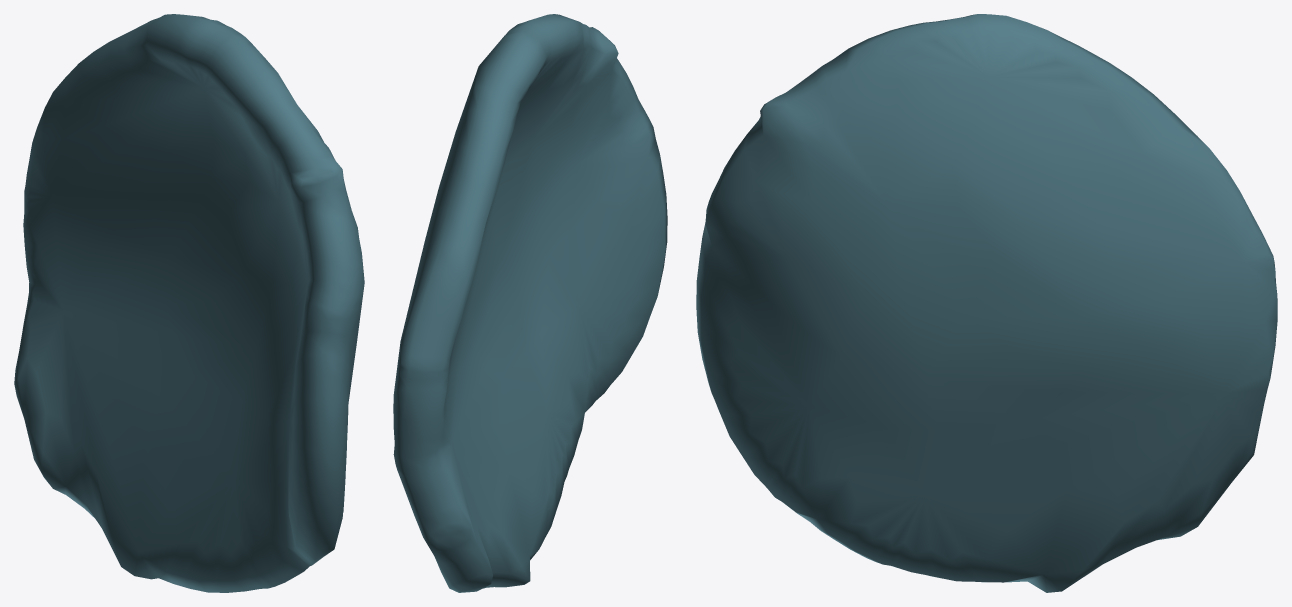
Rendered from Abductor_digiti_minimi_5th_finger_proximal_phalanx_left.glb.
3 views of the same model, side by side, from view 1: azimuth 30°, elevation 25°; view 2: azimuth 150°, elevation 25°; view 3: azimuth 270°, elevation 25° (orthographic). The views are drawn at different scales.
Parts seen in each view (by area): view 1: Abductor_digiti_minimi_on_base_of_prox._phal._of_5th_finger.; view 2: Abductor_digiti_minimi_on_base_of_prox._phal._of_5th_finger.; view 3: Abductor_digiti_minimi_on_base_of_prox._phal._of_5th_finger..
Part boxes in pixels (box(x1,y1,x2,y2)): Abductor_digiti_minimi_on_base_of_prox._phal._of_5th_finger.: box(14, 14, 364, 592); Abductor_digiti_minimi_on_base_of_prox._phal._of_5th_finger.: box(393, 14, 667, 592); Abductor_digiti_minimi_on_base_of_prox._phal._of_5th_finger.: box(696, 14, 1277, 592).
Bounding box in the file's own units: 0.00151 × 0.00548 × 0.00495.
